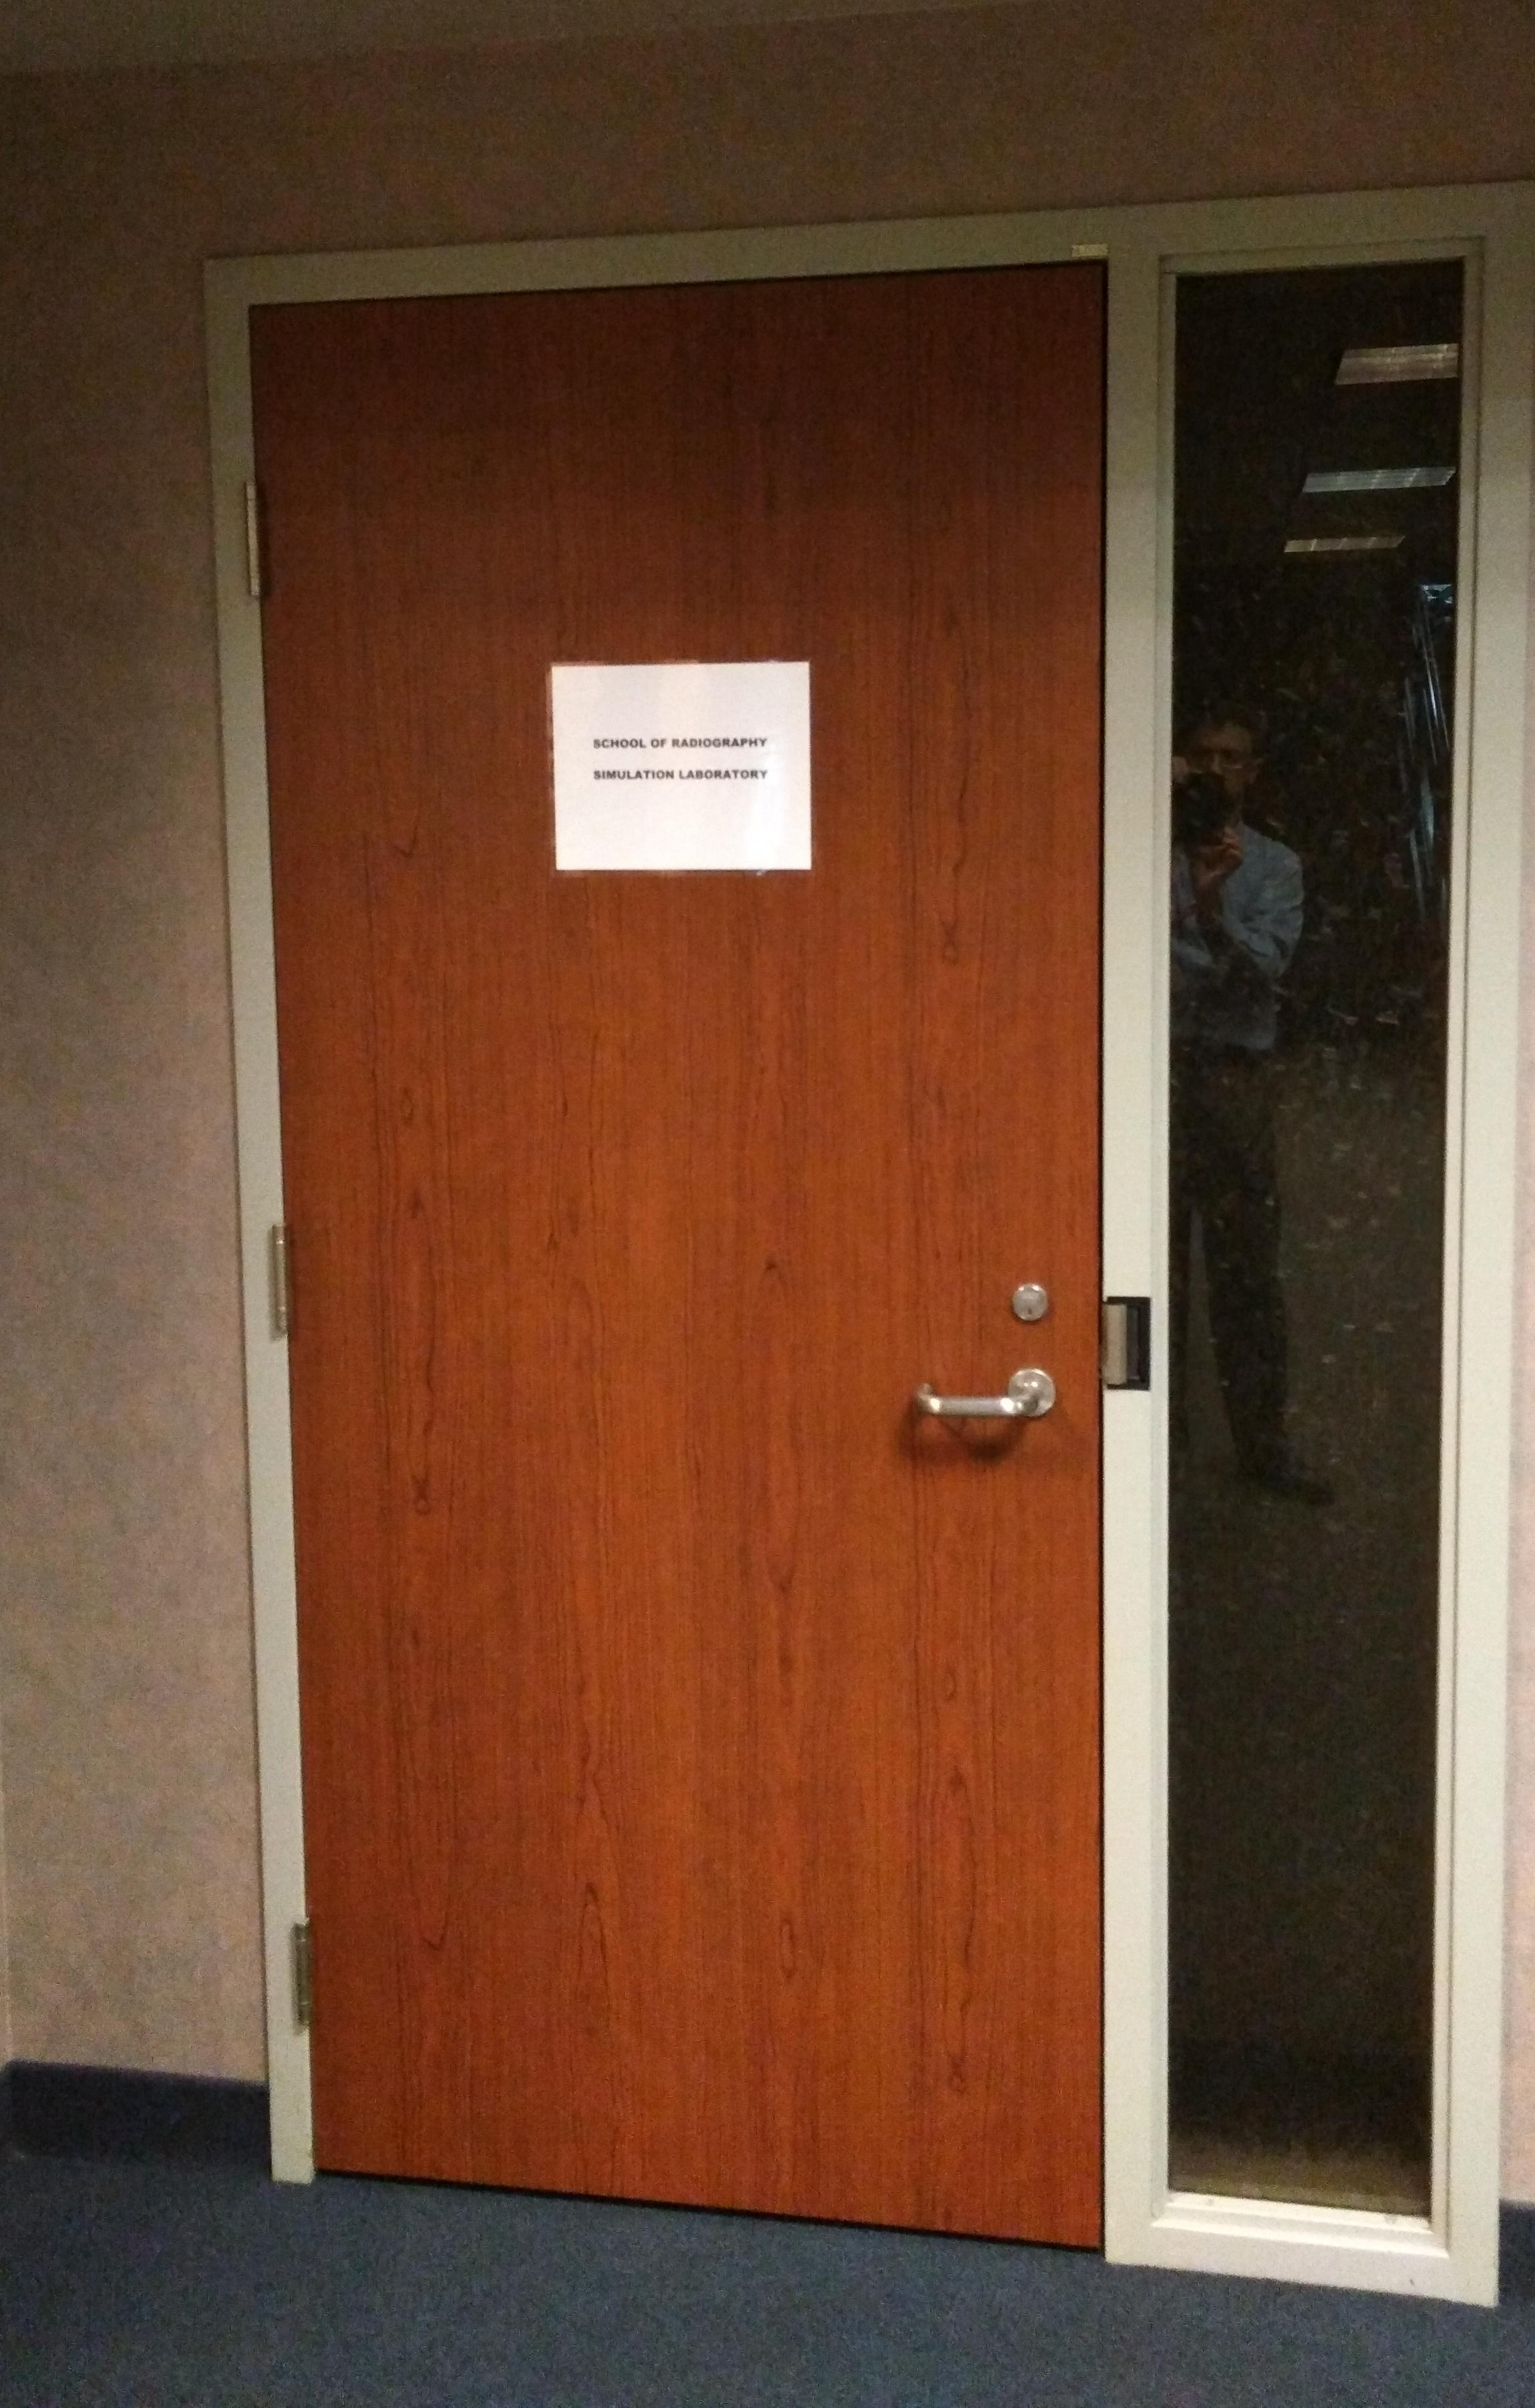door: (202, 202, 1178, 2266)
sign: (551, 660, 811, 872)
